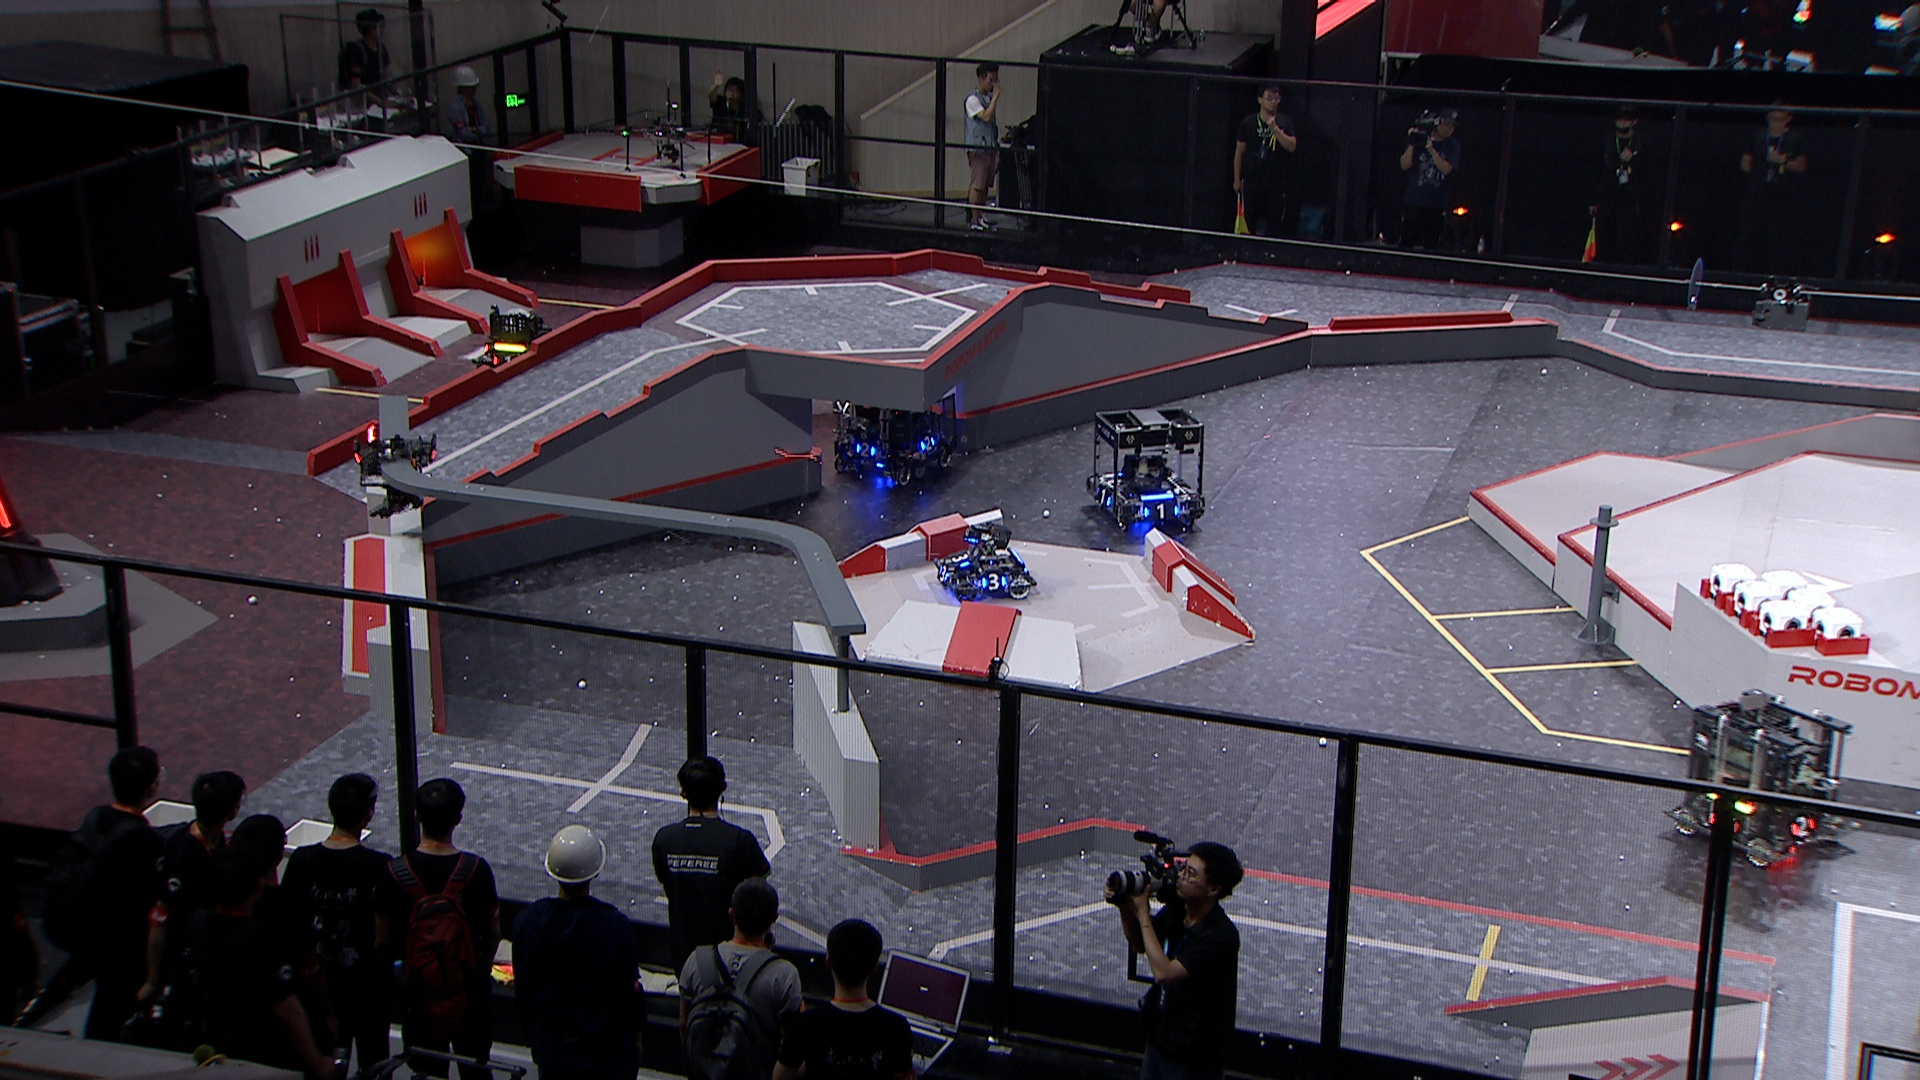armor: (1145, 501, 1178, 522), (1787, 816, 1815, 835), (978, 574, 1007, 589), (0, 501, 13, 531), (918, 433, 938, 452), (1093, 484, 1112, 504), (855, 442, 877, 458), (949, 551, 971, 566), (934, 566, 949, 584), (495, 352, 510, 367)
car: (1660, 690, 1851, 864), (1083, 405, 1207, 534), (829, 367, 961, 487), (930, 522, 1036, 600), (472, 309, 558, 381)
watcher: (348, 425, 436, 520)
